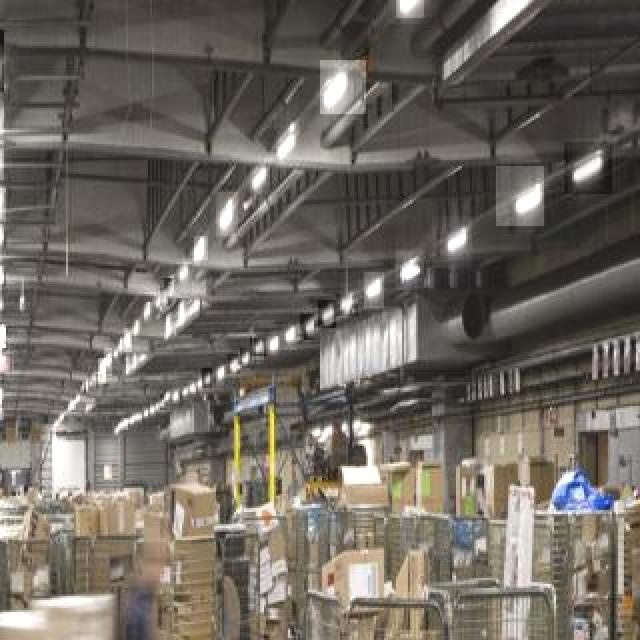fluorescent tube: (553, 151, 616, 193), (429, 222, 487, 258), (504, 180, 558, 218), (240, 157, 273, 207), (386, 0, 429, 38), (211, 194, 244, 243), (324, 58, 352, 111), (360, 264, 391, 309), (184, 233, 216, 275), (271, 126, 302, 169), (400, 253, 427, 291), (317, 296, 346, 329), (347, 285, 360, 322), (0, 120, 8, 172), (0, 90, 6, 146), (0, 174, 6, 220), (0, 40, 4, 96), (0, 218, 4, 260), (0, 212, 4, 252)
